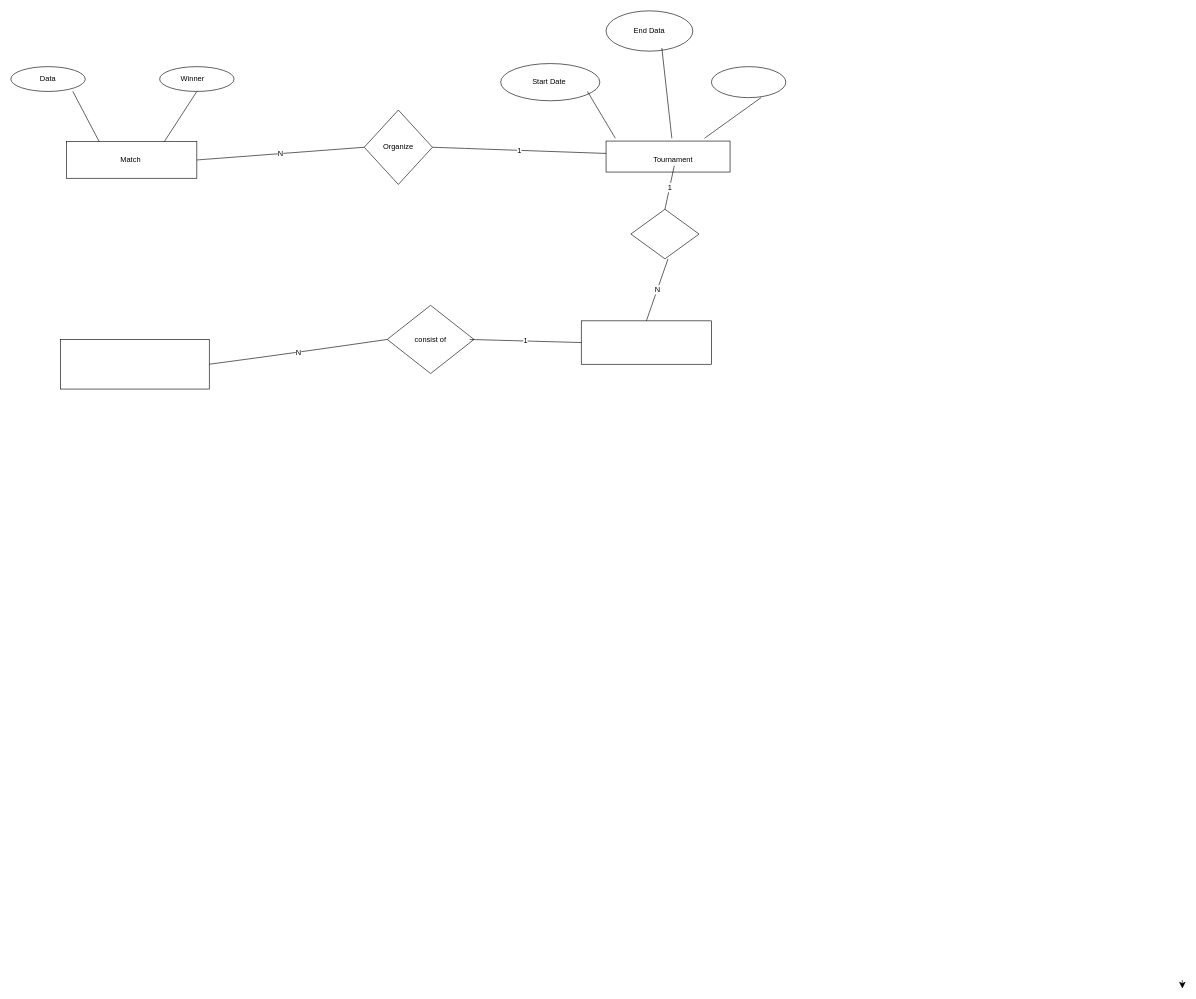
Image size: 1196x999. Some labels were removed from this diagram. The shapes that lost their labels are listed below. From the top down, each one's centre as x and y in pixels, then its label:
(748,82): Name
(664,234): Registers
(646,342): Team
(134,364): Player
